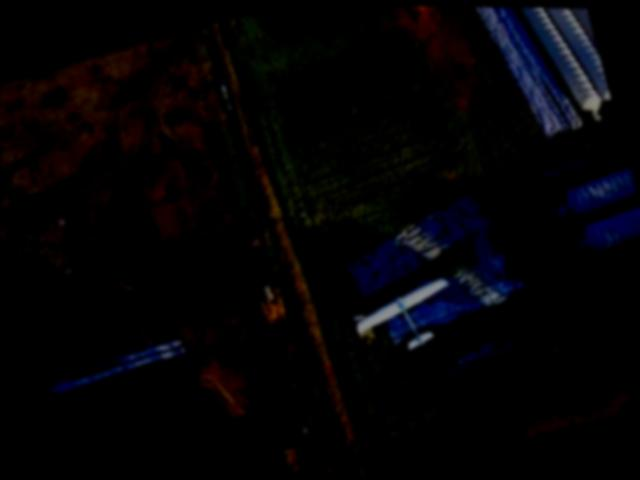uav: (333, 257, 476, 377)
